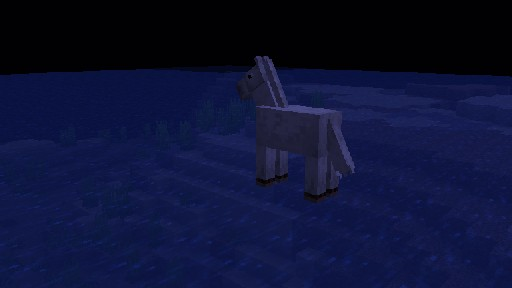horse: (235, 55, 355, 203)
